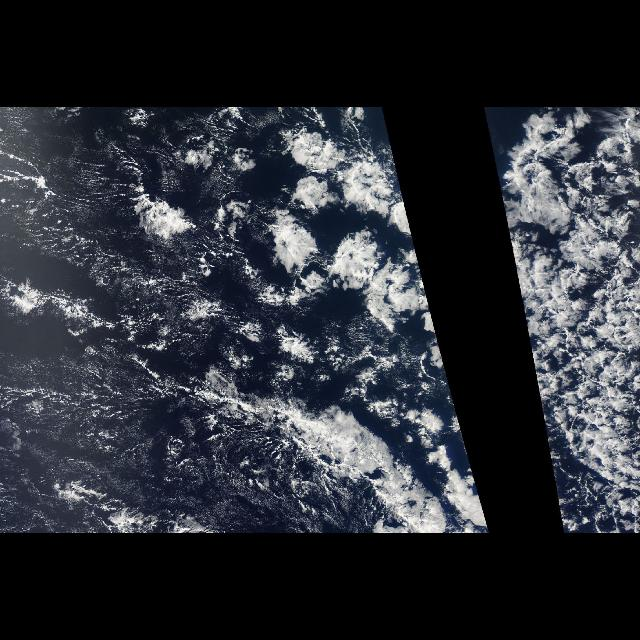Fish: (150, 377, 478, 533)
Flower: (86, 121, 434, 361)
Sugar: (142, 112, 434, 316), (177, 360, 447, 530), (505, 123, 639, 457)
